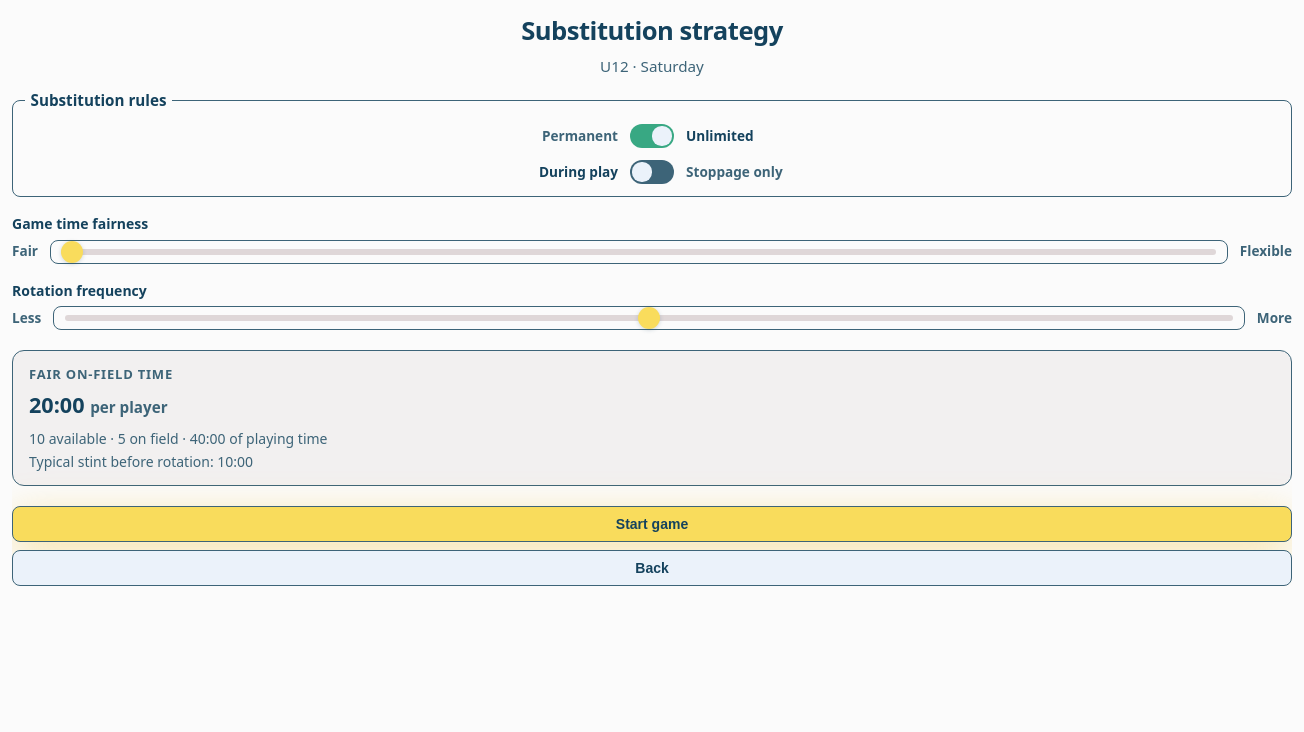
it: SubStrategyTargetSummary › updates typical stint when rotation frequency changes
Expected: the text with test id "sub-strategy-stint-target" shows "10:00", [217, 452, 253, 471]
Set the slider with test id "strategy-rotation-frequency" to "10": (1237, 318) [53, 306, 1245, 330]
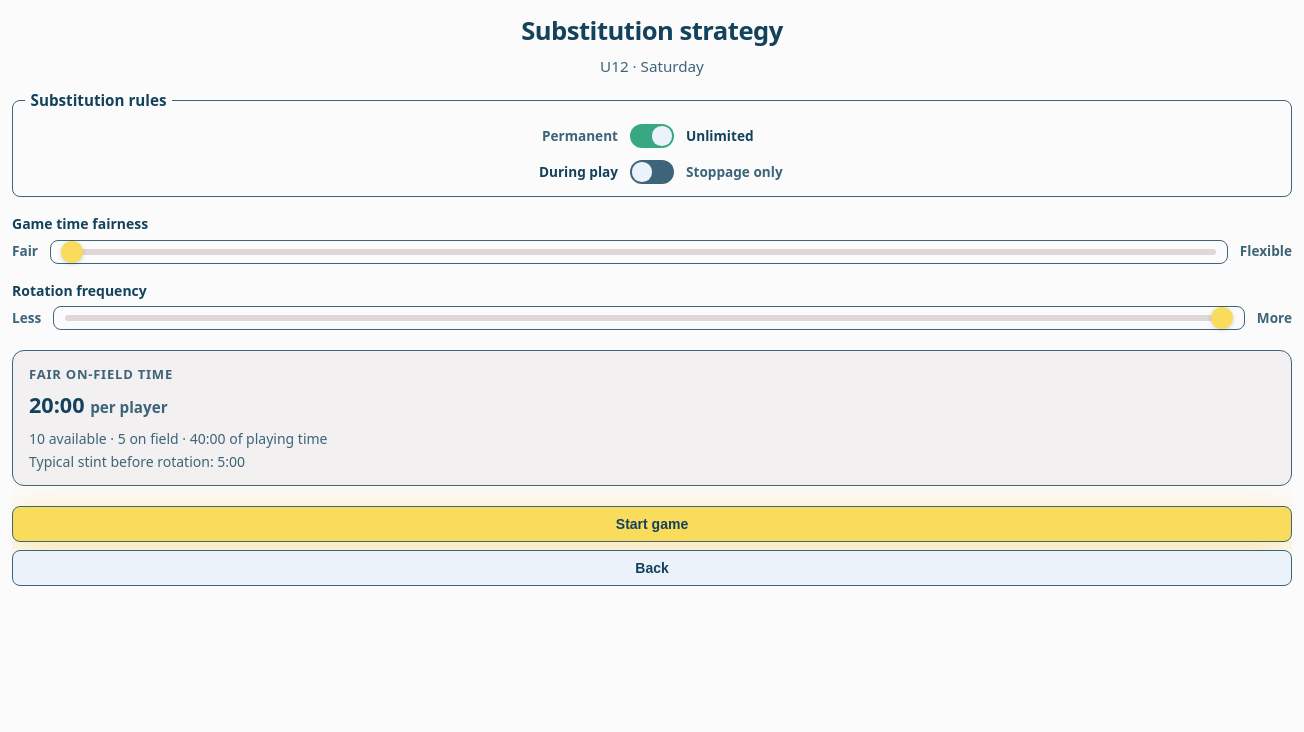
Expected: the text with test id "sub-strategy-stint-target" shows "5:00", [217, 452, 245, 471]
